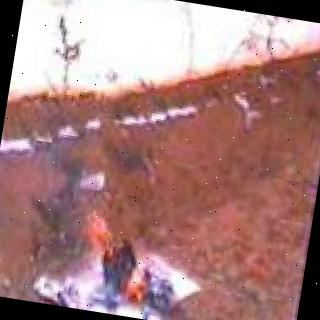fire: (70, 202, 190, 314)
